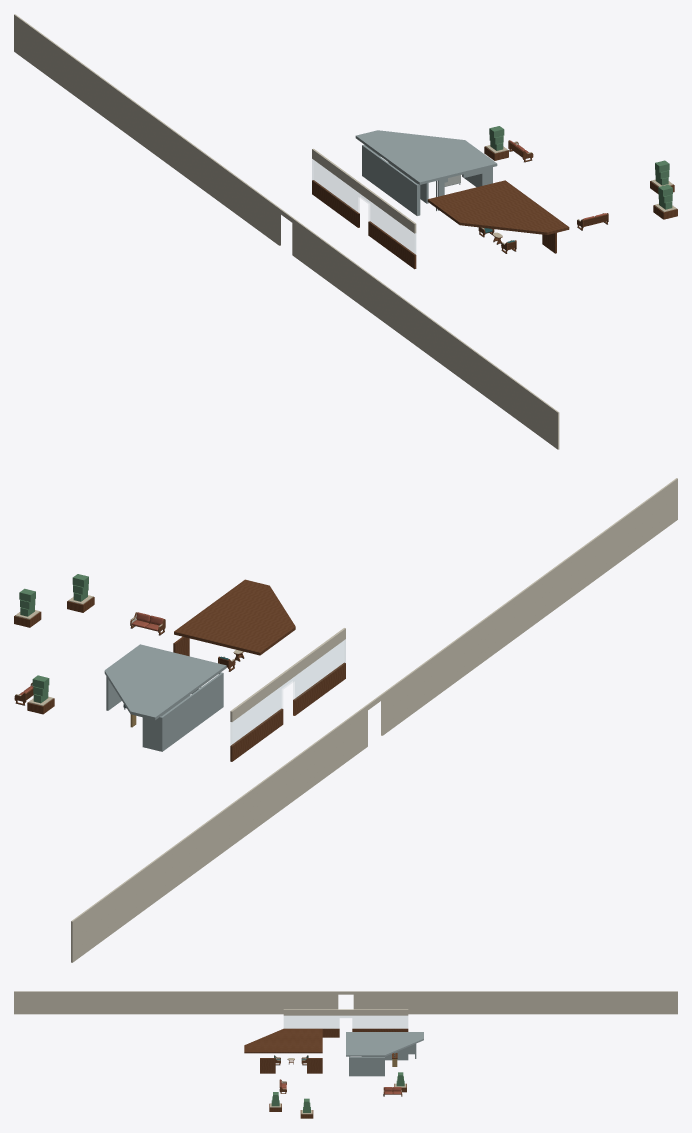
File: D04_PORT_CENTRAL_COMMONS_PATCH_r002.glb
3 renders of one model, top to bottom at view 1: azimuth 30°, elevation 25°; view 2: azimuth 150°, elevation 25°; view 3: azimuth 270°, elevation 25°, orthographic. The views are drawn at different scales.
Parts seen in each view (by area): view 1: PCW_EastEnclosure4, PCC_ServiceLowCanopy, PCC_QuietLowCanopy, PCC_PerimeterGlass_11_0, PCC_ServiceWest, PCC_PerimeterDado_11_0, PCC_PerimeterHead_11_0; view 2: PCW_EastEnclosure4, PCC_ServiceLowCanopy, PCC_QuietLowCanopy, PCC_PerimeterGlass_11_0, PCC_ServiceWest, PCC_PerimeterDado_11_0, PCC_PerimeterHead_11_0; view 3: PCW_EastEnclosure4, PCC_QuietLowCanopy, PCC_ServiceLowCanopy, PCC_PerimeterGlass_11_0, PCC_PerimeterHead_11_0, PCC_ServiceEast, PCC_PerimeterDado_11_0, PCC_QuietScreen, PCC_QuietScreenBack.
Boxes of the visible parts, <box> form: PCW_EastEnclosure4: <box>14,14,559,449</box>; PCC_ServiceLowCanopy: <box>355,130,497,184</box>; PCC_QuietLowCanopy: <box>427,180,569,234</box>; PCC_PerimeterGlass_11_0: <box>312,159,415,254</box>; PCC_ServiceWest: <box>362,145,418,215</box>; PCC_PerimeterDado_11_0: <box>312,180,416,269</box>; PCC_PerimeterHead_11_0: <box>312,148,416,233</box>; PCW_EastEnclosure4: <box>71,478,677,962</box>; PCC_ServiceLowCanopy: <box>104,644,226,720</box>; PCC_QuietLowCanopy: <box>174,579,295,655</box>; PCC_PerimeterGlass_11_0: <box>230,639,345,745</box>; PCC_ServiceWest: <box>160,672,223,751</box>; PCC_PerimeterDado_11_0: <box>230,662,345,761</box>; PCC_PerimeterHead_11_0: <box>230,628,345,721</box>; PCW_EastEnclosure4: <box>14,991,677,1014</box>; PCC_QuietLowCanopy: <box>244,1028,322,1053</box>; PCC_ServiceLowCanopy: <box>346,1032,423,1056</box>; PCC_PerimeterGlass_11_0: <box>284,1016,407,1028</box>; PCC_PerimeterHead_11_0: <box>283,1009,408,1015</box>; PCC_ServiceEast: <box>349,1057,384,1076</box>; PCC_PerimeterDado_11_0: <box>322,1028,408,1037</box>; PCC_QuietScreen: <box>307,1058,322,1073</box>; PCC_QuietScreenBack: <box>260,1058,275,1073</box>.
Size of the model in its own units: 31.71 by 3.9 by 85.
Materials: 54 (50 with a texture image).
